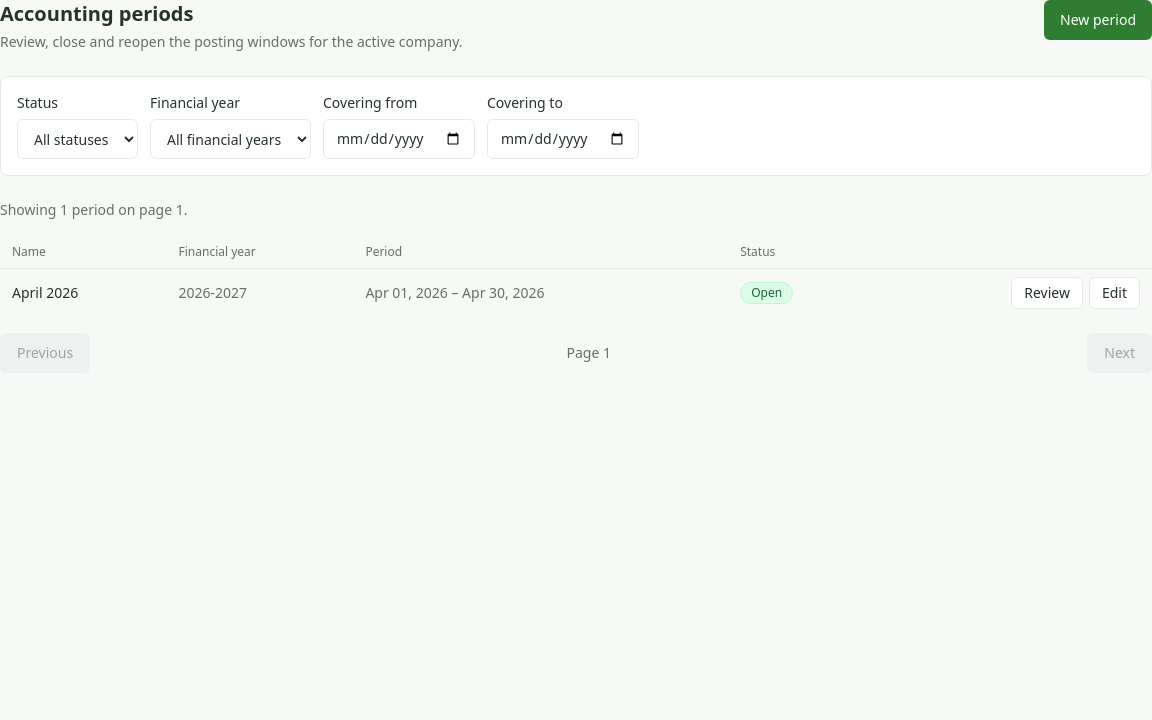
Scenario: PeriodsView › opens the create dialog from the header action
Click the button "New period" at (1098, 20), box left=1044, top=0, right=1151, bottom=40
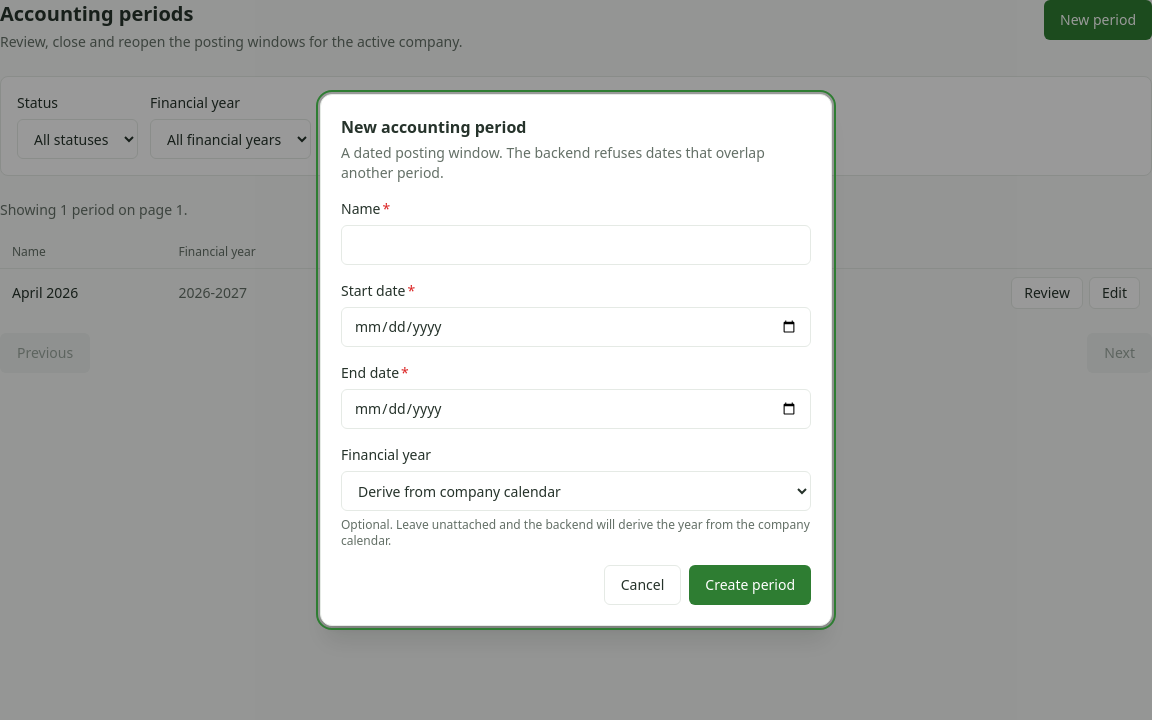
expect the dialog "New accounting period" is shown: met, box left=320, top=94, right=832, bottom=626
